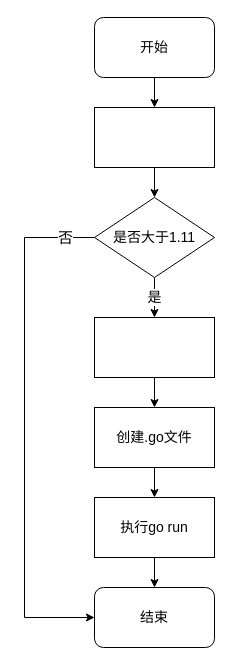
Image size: 232x665. Some labels were removed from this diagram. The centre of each missing label's shape, as x and y in pixels:
设置GoModule: the point at 154,347
验证golang版本: the point at 154,137
